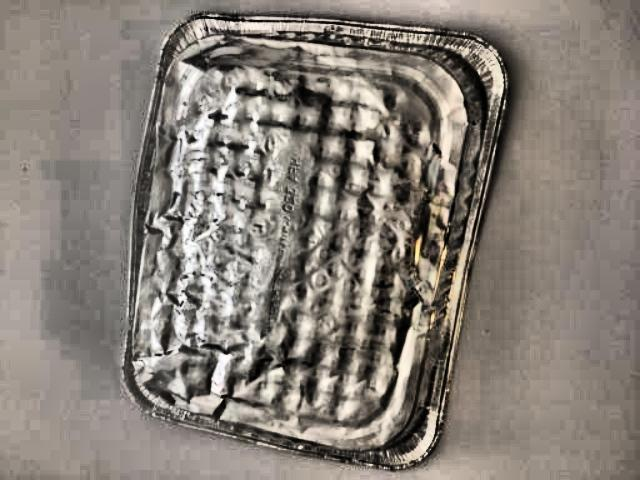Almennt: (111, 0, 517, 480)
